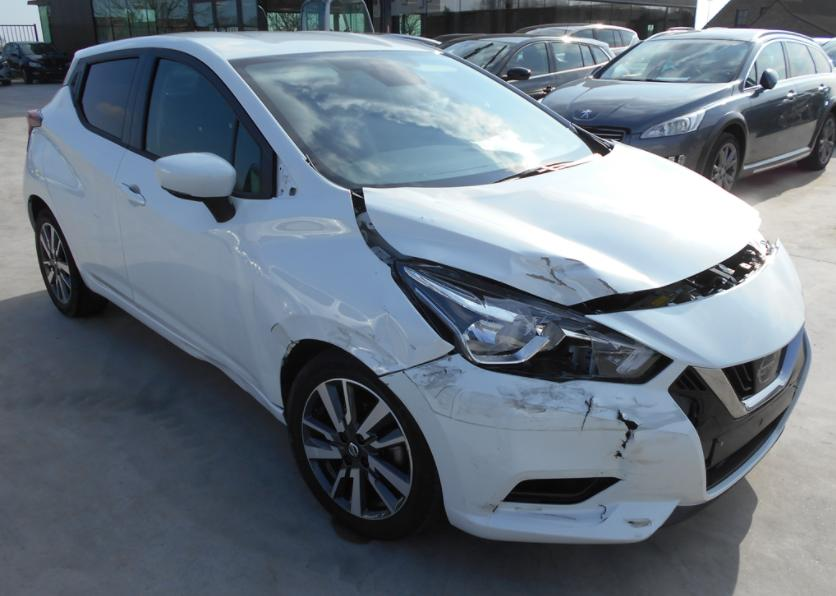Back-door: (45, 50, 146, 304)
Back-wheel: (34, 209, 106, 317)
Back-window: (81, 58, 136, 135)
Fender: (251, 160, 453, 409)
Front-bumper: (384, 242, 811, 543)
Front-door: (114, 47, 272, 382)
Front-wheel: (287, 350, 436, 536)
Front-window: (144, 60, 262, 192)
Grille: (670, 328, 803, 492)
Headlight: (396, 261, 664, 381)
Hood: (365, 139, 760, 306)
License-plate: (709, 384, 793, 468)
Mirror: (156, 153, 235, 223)
Quarter-panel: (23, 84, 64, 214)
Rocker-panel: (80, 267, 287, 426)
Roof: (78, 29, 431, 60)
Windshield: (232, 49, 590, 188)
